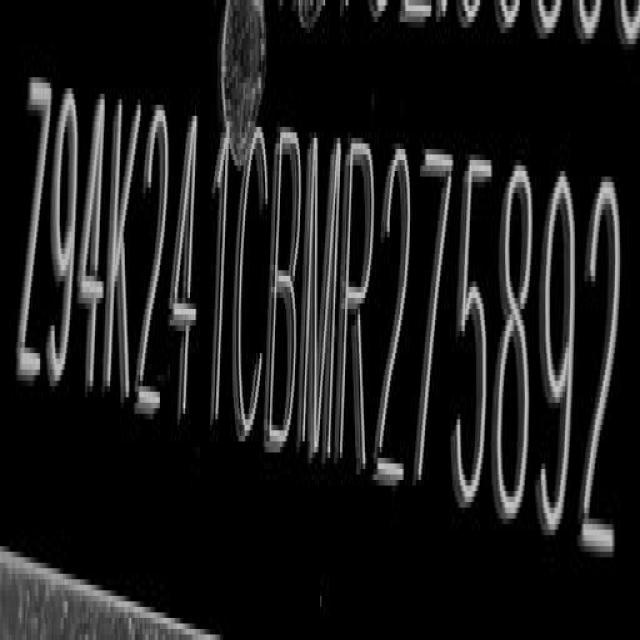1: (210, 120, 230, 438)
2: (586, 177, 624, 568), (381, 138, 415, 488), (138, 99, 168, 421)
4: (79, 86, 111, 402), (172, 119, 204, 428)
5: (454, 147, 489, 514)
7: (418, 140, 454, 499)
8: (498, 162, 534, 528)
9: (540, 171, 578, 549), (50, 82, 79, 399)
B: (270, 125, 301, 458)
C: (232, 120, 264, 451)
K: (110, 95, 138, 412)
M: (300, 129, 342, 466)
R: (340, 133, 378, 480)
Z: (15, 76, 50, 394)
